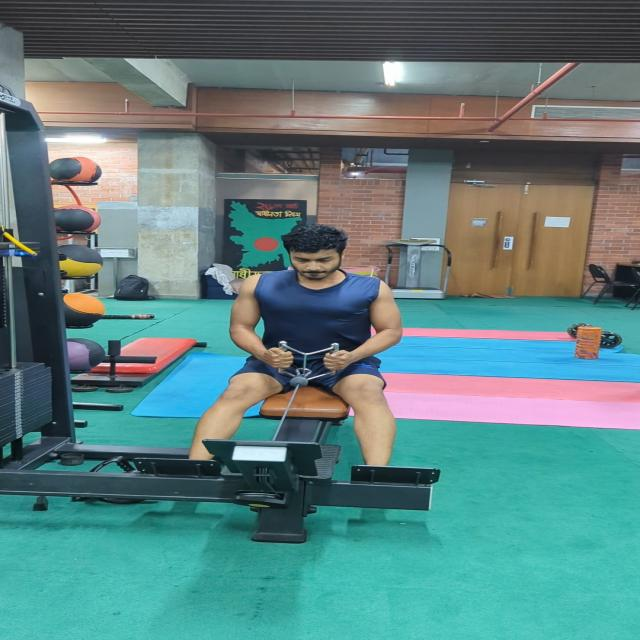Normal_RowingMachineExercise: (186, 223, 406, 470)
